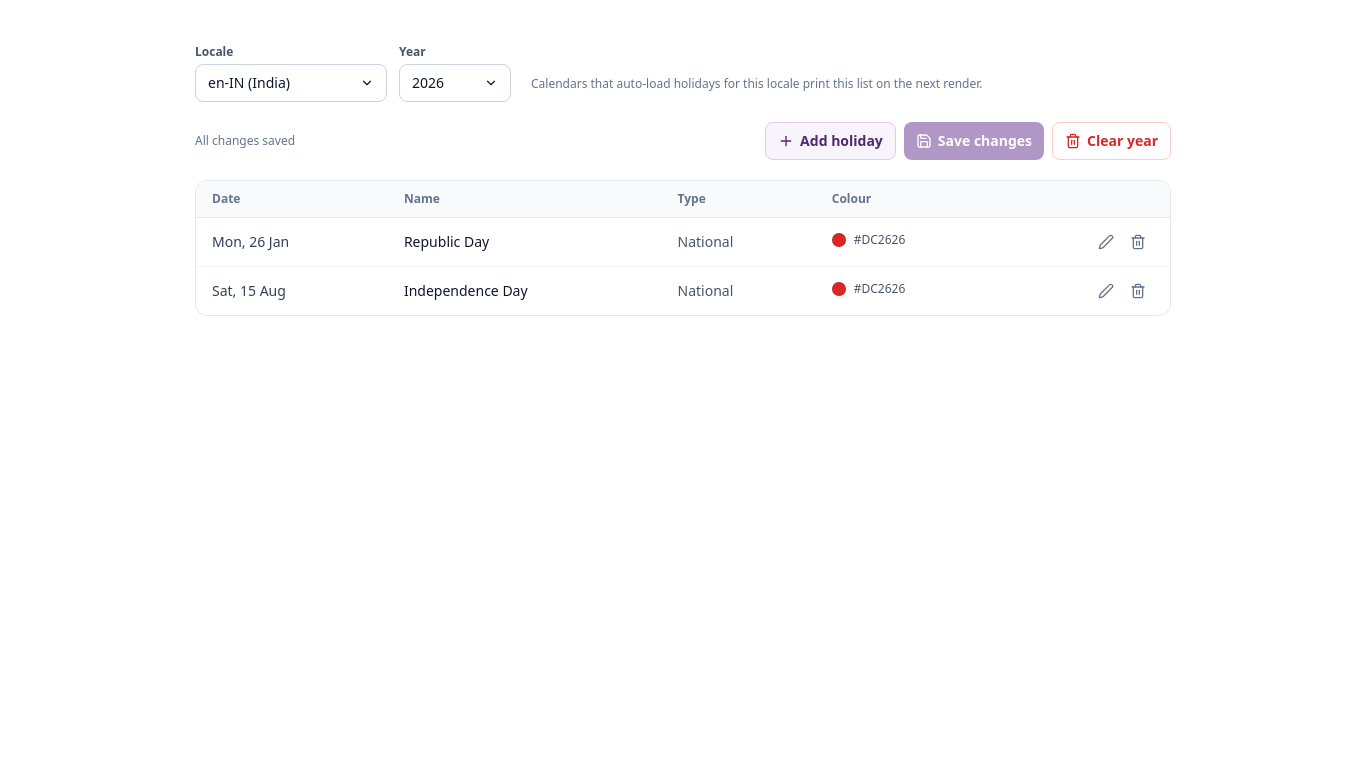
Test: holidays page › Clear year DELETEs after an in-page confirmation
This screenshot has width=1366, height=768.
Step 1. Click the button "Clear year" → [1112, 141], box [1052,122,1171,160]
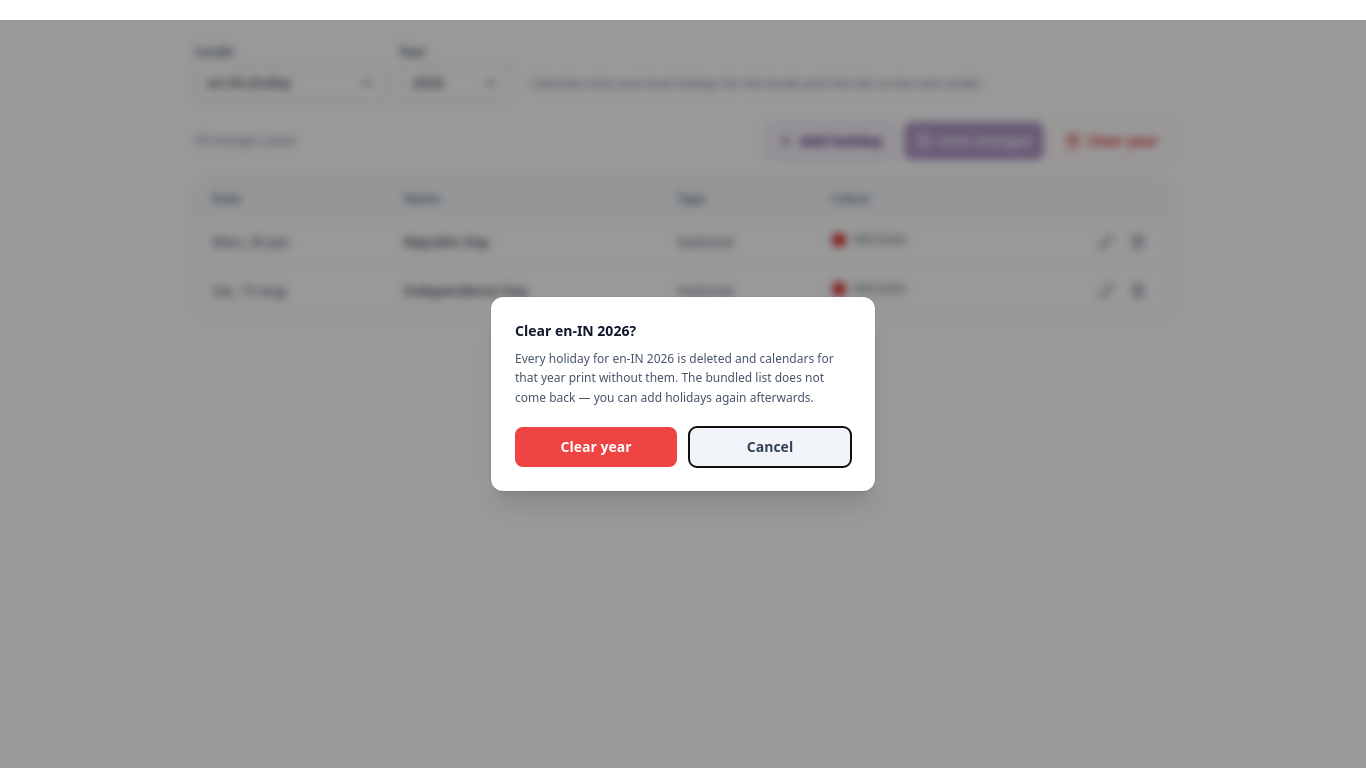
Step 2. Click the button "Clear year" → [596, 447], box [515,427,677,467]
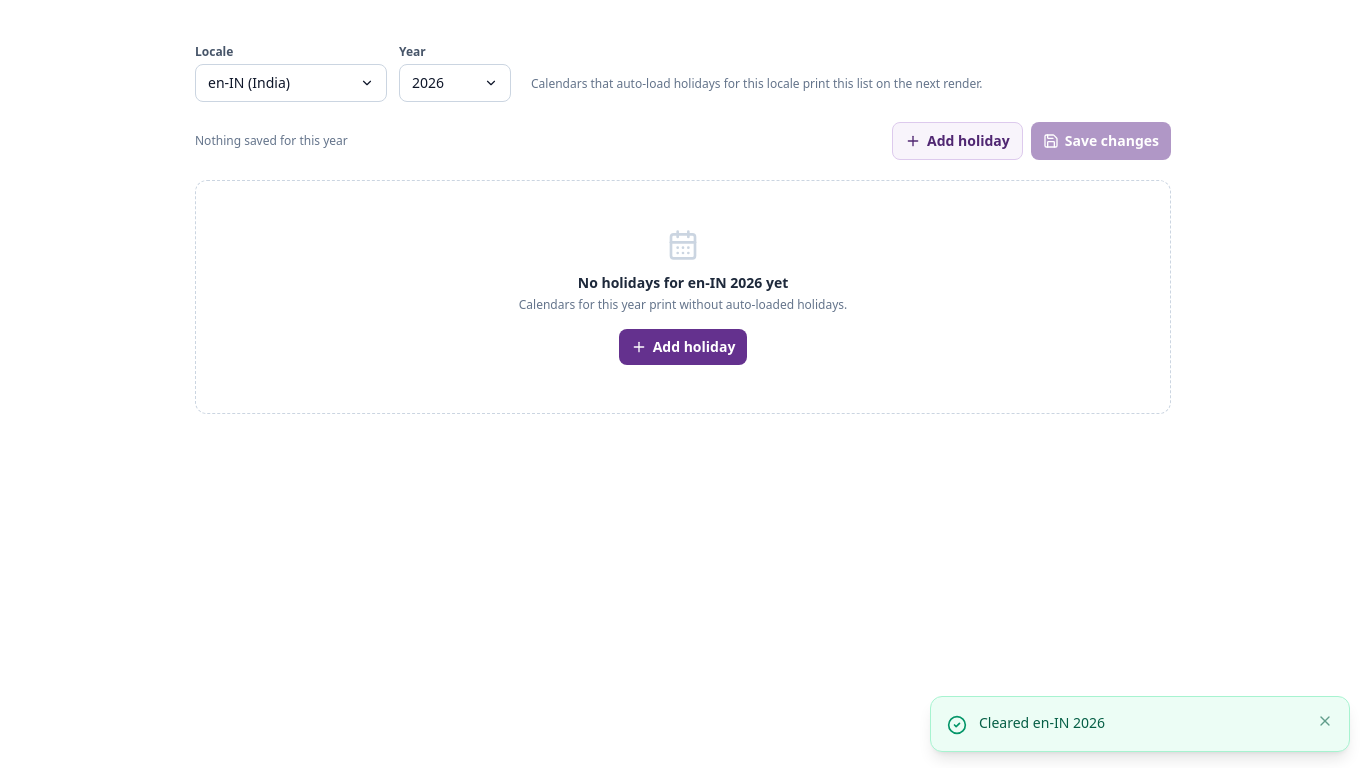
Expected: the text "No holidays for en-IN 2026 yet" is shown, [578,273,788,292]
